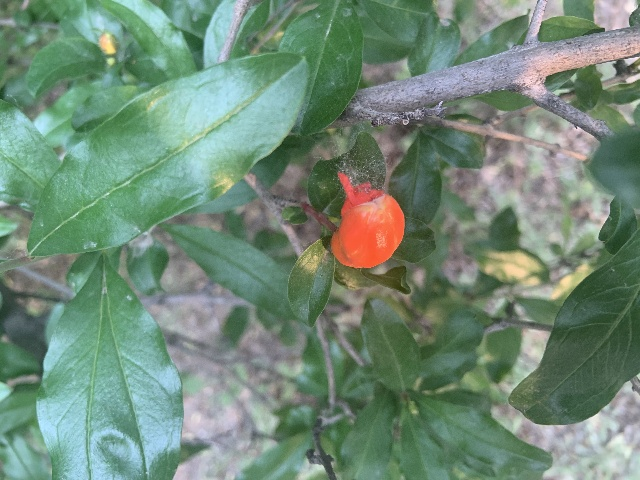flower: (330, 173, 404, 267)
